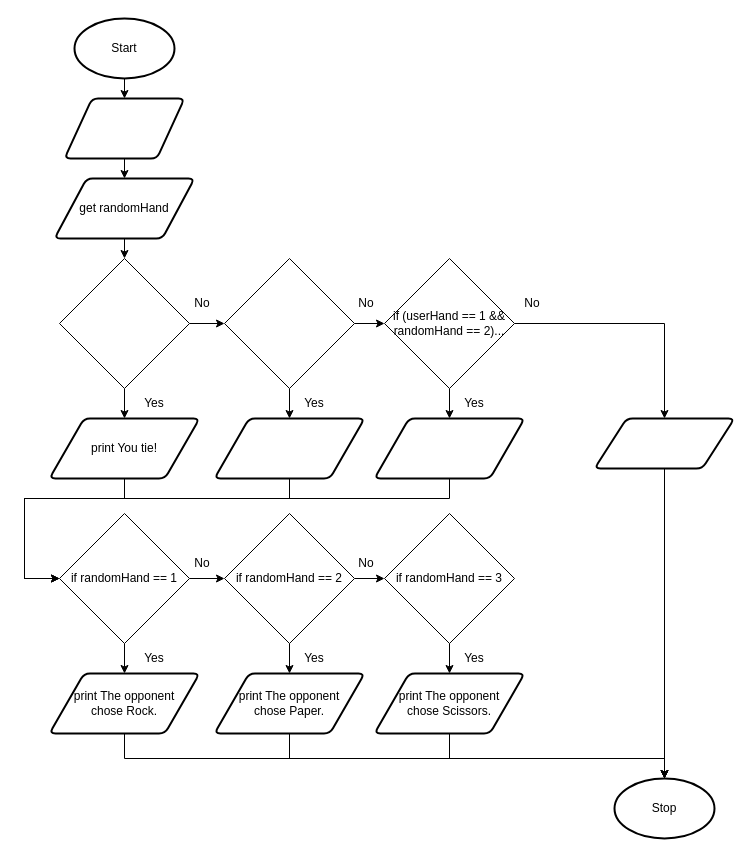
The diagram is 753 pixels wide and 856 high, and some of its shapes have lost their labels. Here are the shapes that lost their labels. From the top down, the centre of each, then its label:
At (124,128): "get userHand".
At (124,323): "if userHand == randomHand".
At (289,323): "if (userHand == 1 && randomHand == 3)...".
At (289,448): "print You win!".
At (449,448): "print You lose!".
At (664,443): "print Invalid Input".
